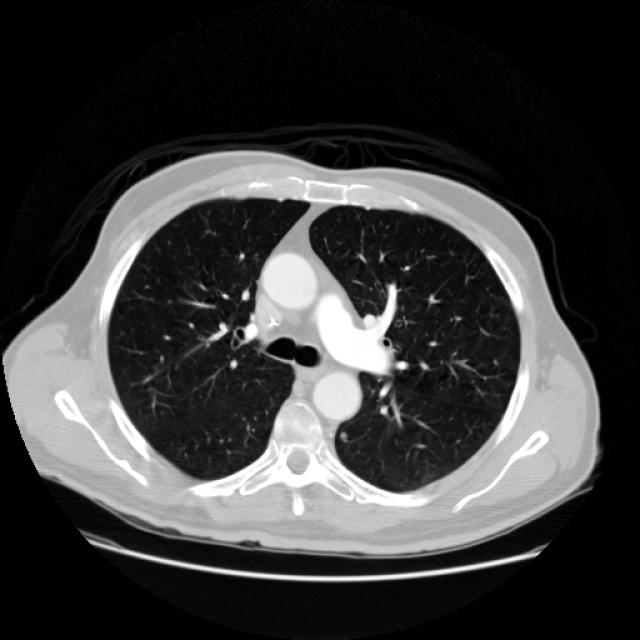nodule: (332, 426, 352, 446)
